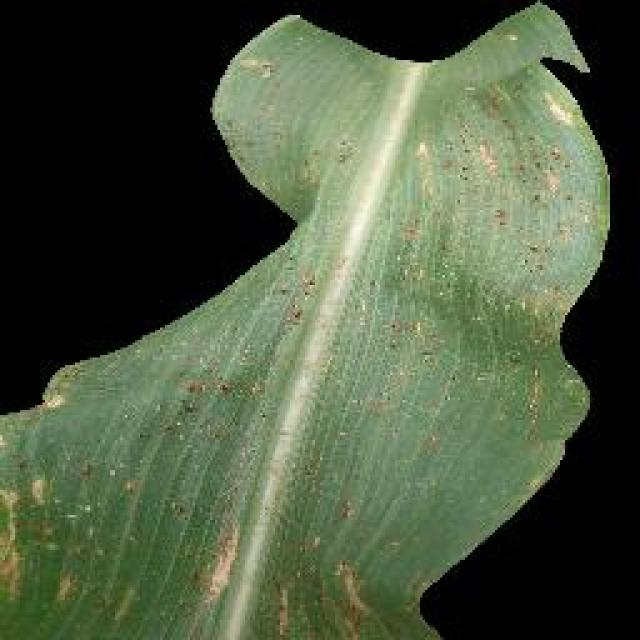Corn Common Rust: (215, 100, 560, 577)
